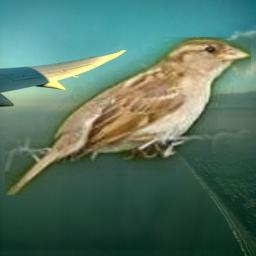Sparrow: (5, 37, 251, 195)
